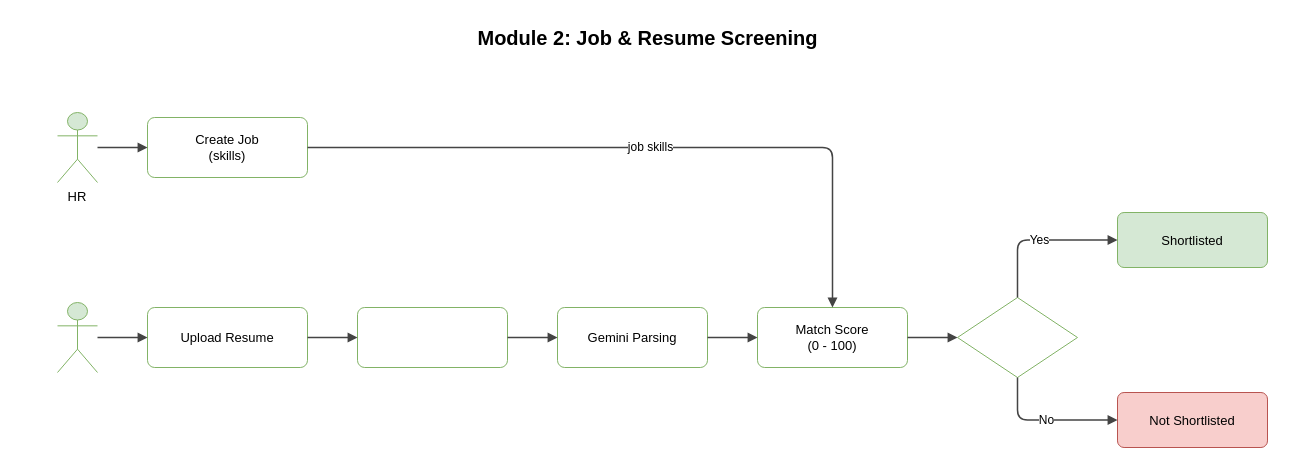
This 1294x465 diagram has some shape labels left out. The centre of each missing label's shape, as x and y in pixels:
Candidate: [77,337]
Encrypt & Store: [432,337]
Score ≥ 60?: [1017,337]
